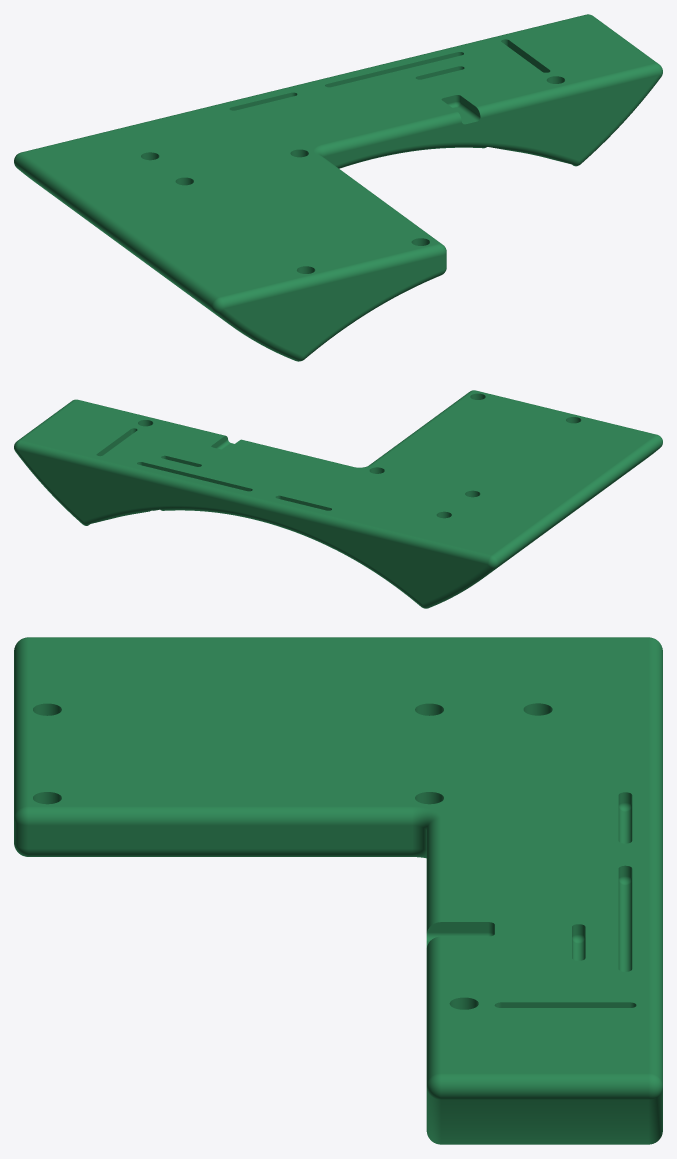
The model's file is mainboard_mount.obj.
The picture shows the model from 3 angles, top to bottom: view 1: azimuth 30°, elevation 25°; view 2: azimuth 150°, elevation 25°; view 3: azimuth 270°, elevation 25°; orthographic projection. The views are drawn at different scales.
Parts seen in each view (by area): view 1: Solid1; view 2: Solid1; view 3: Solid1.
Boxes of the visible parts, box(x1,y1,x2,y2) form: Solid1: box(14, 14, 662, 361); Solid1: box(14, 390, 662, 608); Solid1: box(14, 637, 662, 1144).
Bounding box in the file's own units: 147 × 20 × 90.
